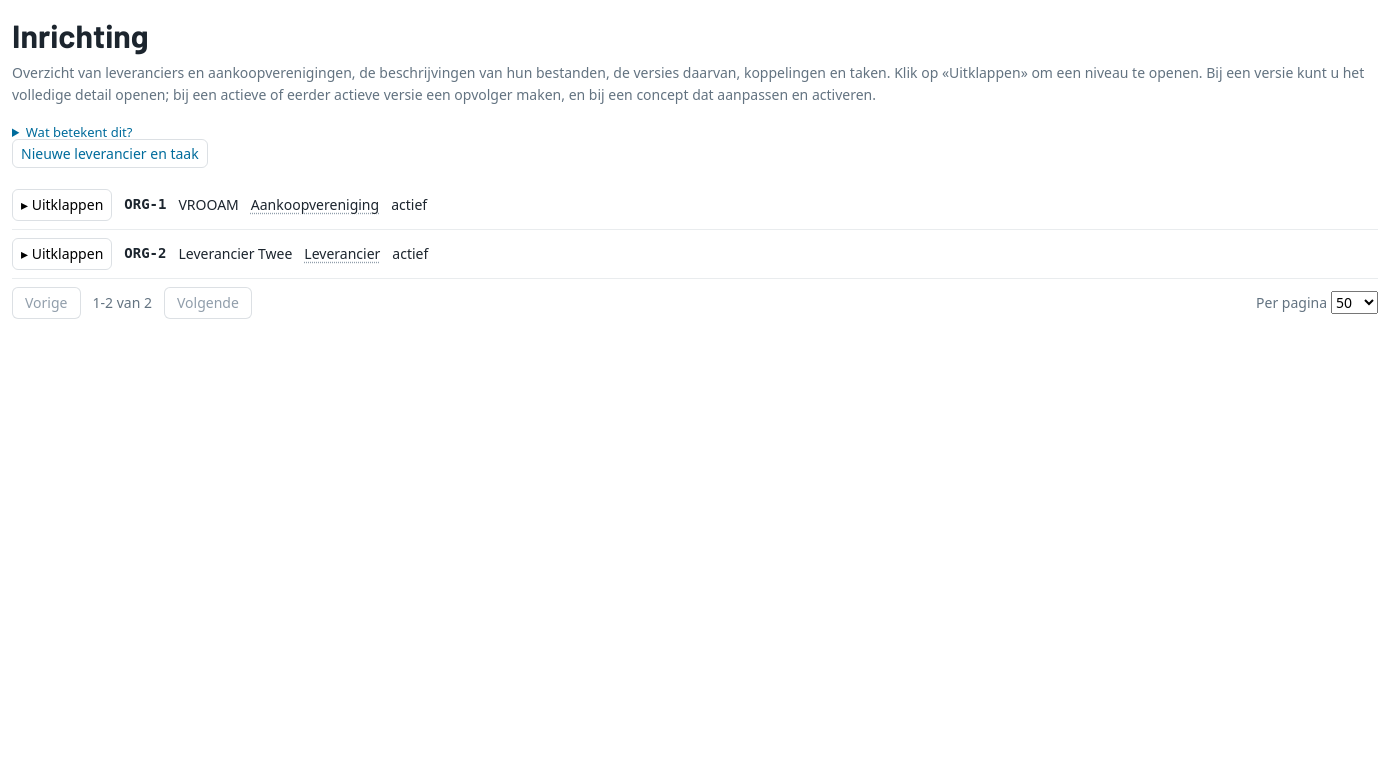
Test: SetupOverviewPage › S1-F1.4: klapt een definitie uit en laadt lazy revisies en koppelingen
Expected: the text "ORG-1" is shown, [124,194,166,216]
What coordinates should you click on to do the following:
click the button "▸ Uitklappen" next to "ORG-1"
I would click on:
 (62, 205)
Its box is [12,189,112,221].
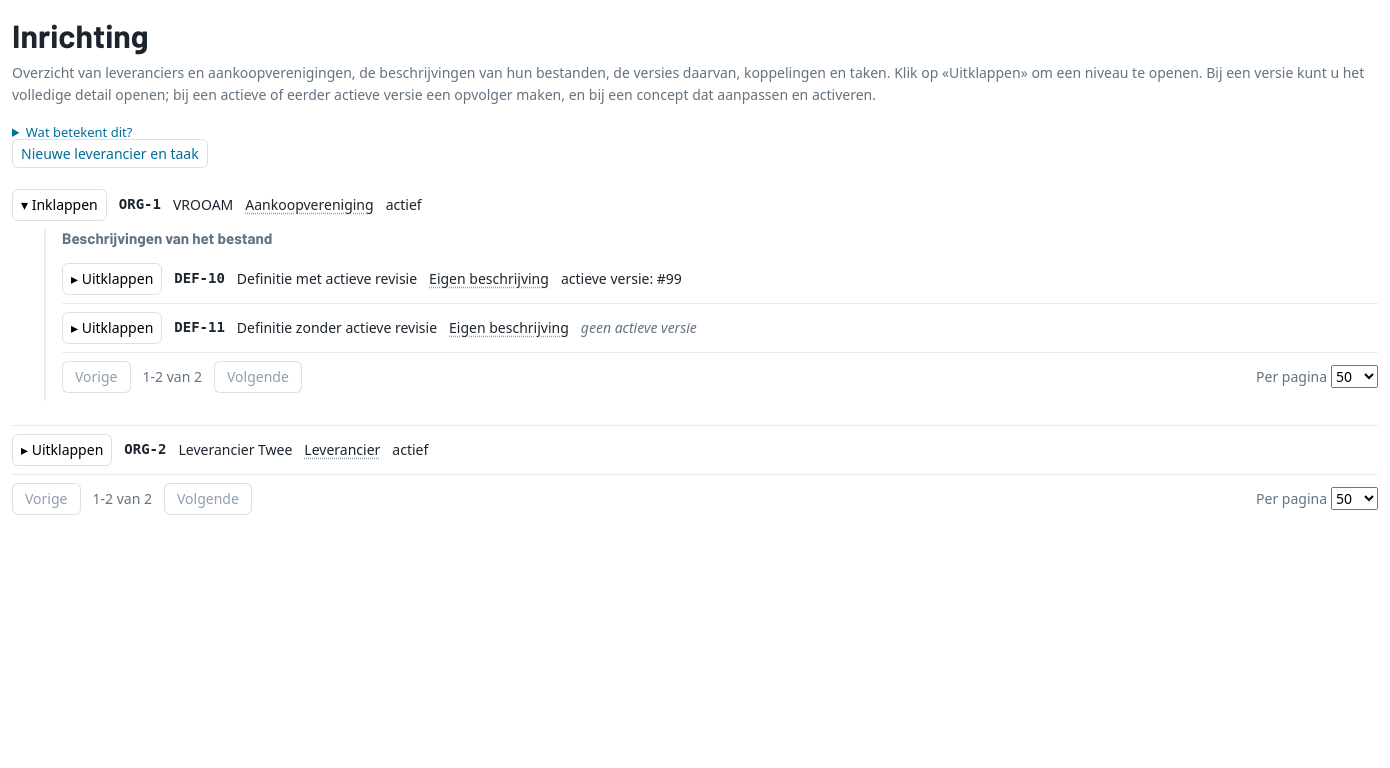
Expected: the text "DEF-10" is shown, [174,268,225,290]
Expected: the number of buttons "▸ Uitklappen" is 2
What coordinates should you click on to do the following:
click the button "▸ Uitklappen" next to "DEF-10"
I would click on:
 (112, 279)
Its box is [62,263,162,295].
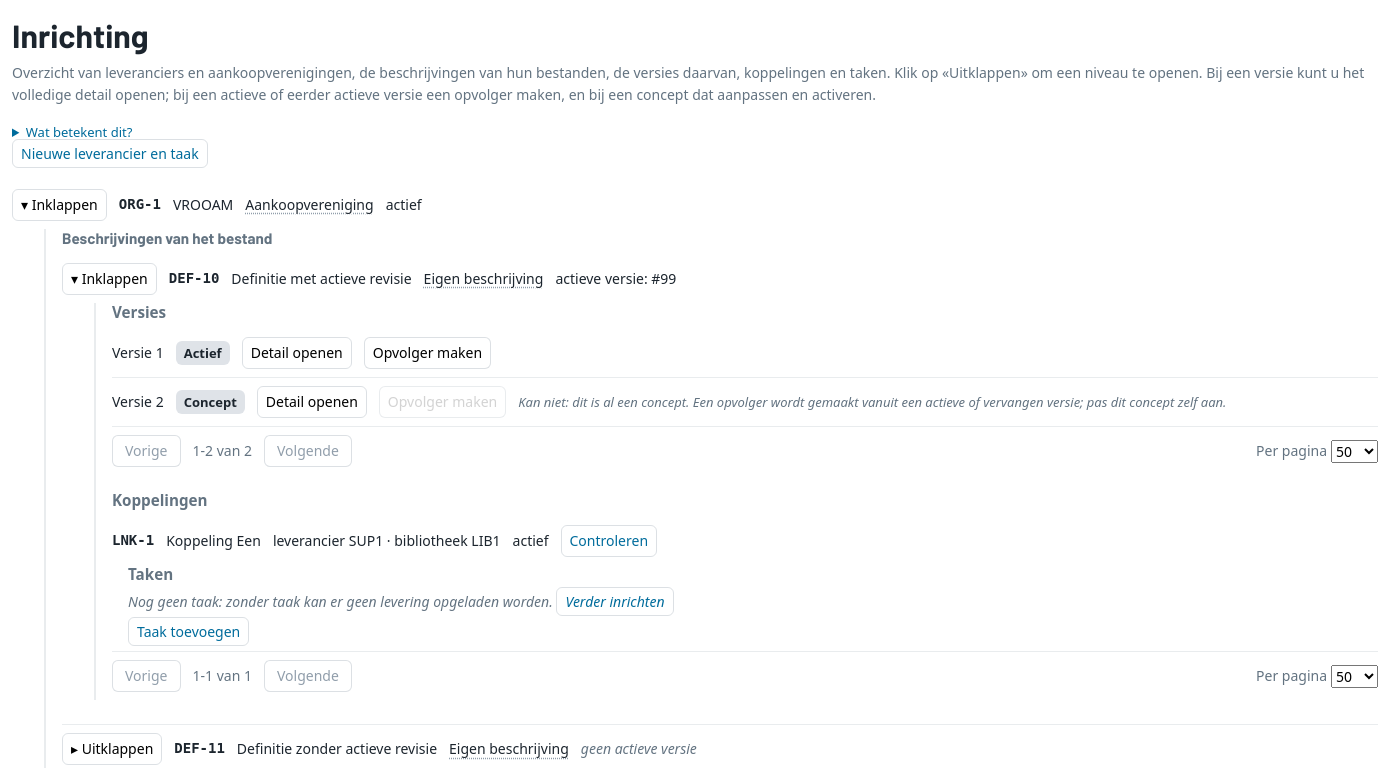
Expected: the text "Versie 1" is shown, [112,342,164,364]
Expected: the text "Versie 2" is shown, [112,391,164,413]
Expected: the text "LNK-1" is shown, [112,530,154,552]
